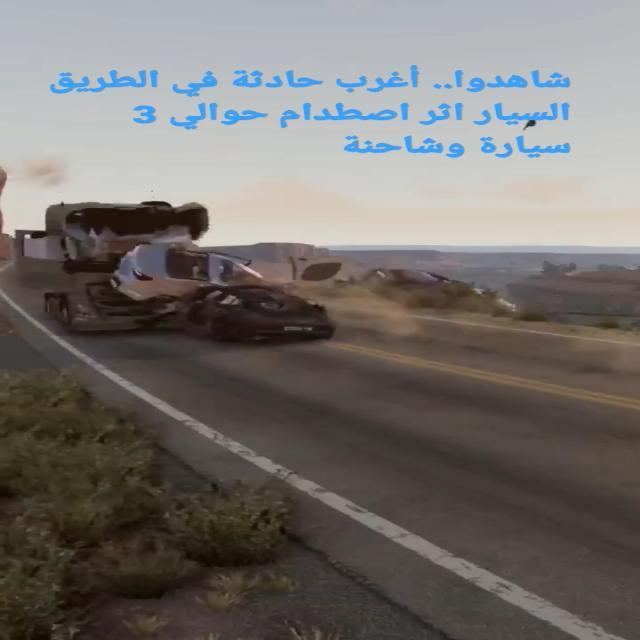accident: (8, 186, 361, 351)
